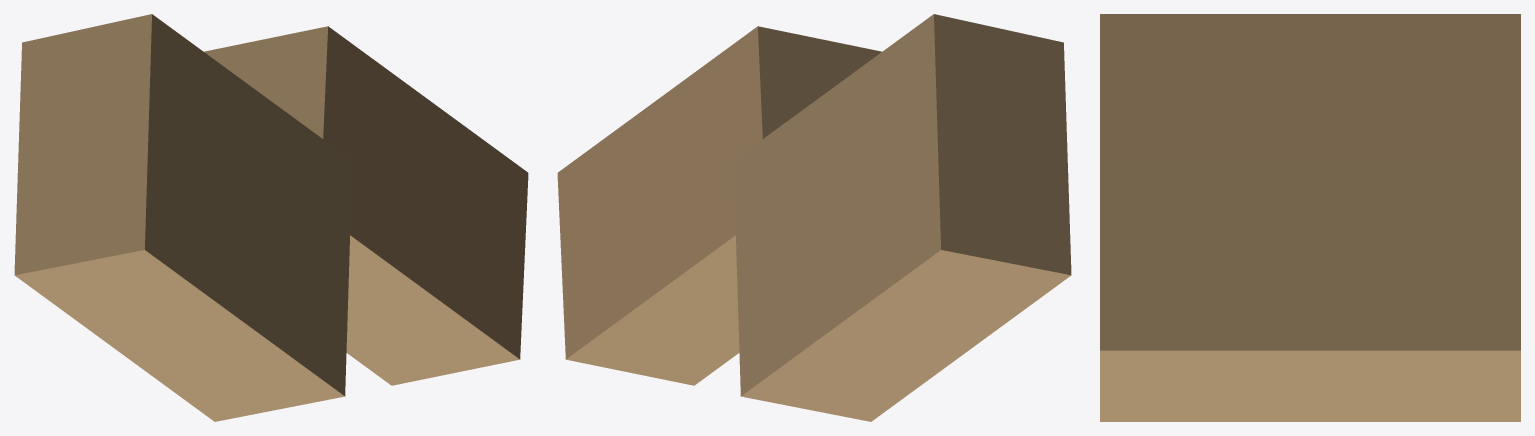
3 views of the same model, side by side, from view 1: azimuth 30°, elevation 25°; view 2: azimuth 150°, elevation 25°; view 3: azimuth 270°, elevation 25° (orthographic). The views are drawn at different scales.
Parts seen in each view (by area): view 1: 0_2_1_3_0_0_3_2_1_0; view 2: 0_2_1_3_0_0_3_2_1_0; view 3: 0_2_1_3_0_0_3_2_1_0.
Boxes of the visible parts, box(x1,y1,x2,y2) form: 0_2_1_3_0_0_3_2_1_0: box(14, 14, 528, 421); 0_2_1_3_0_0_3_2_1_0: box(557, 14, 1071, 421); 0_2_1_3_0_0_3_2_1_0: box(1100, 14, 1520, 421).
Bounding box in the file's own units: 18.99 × 14.06 × 21.
